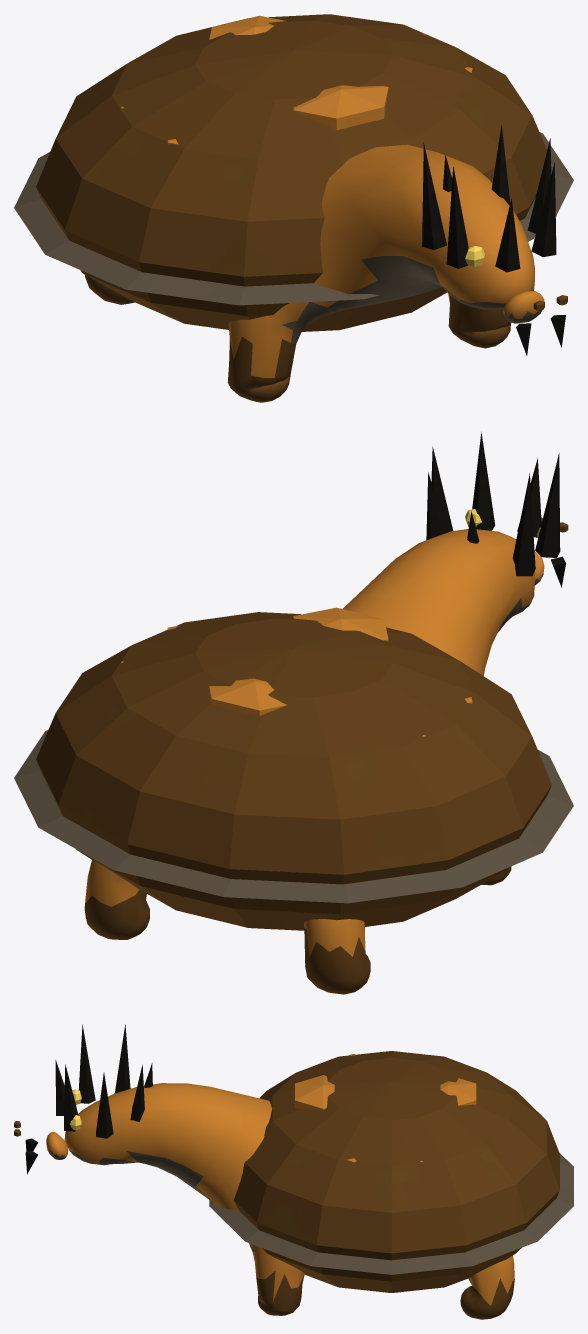
The model's file is mon_sp_amber_turtle.glb.
3 renders of one model, top to bottom at view 1: azimuth 30°, elevation 25°; view 2: azimuth 150°, elevation 25°; view 3: azimuth 270°, elevation 25°, orthographic. The views are drawn at different scales.
Visible parts, largest first — view 1: mon_sp_amber_turtle; view 2: mon_sp_amber_turtle; view 3: mon_sp_amber_turtle.
Part boxes in pixels (bbox=[...]): mon_sp_amber_turtle: bbox=[14, 14, 573, 402]; mon_sp_amber_turtle: bbox=[14, 432, 573, 994]; mon_sp_amber_turtle: bbox=[14, 1024, 573, 1319].
Size of the model in its own units: 2.7 by 1.68 by 3.62.
Materials: 5 (4 with a texture image).
